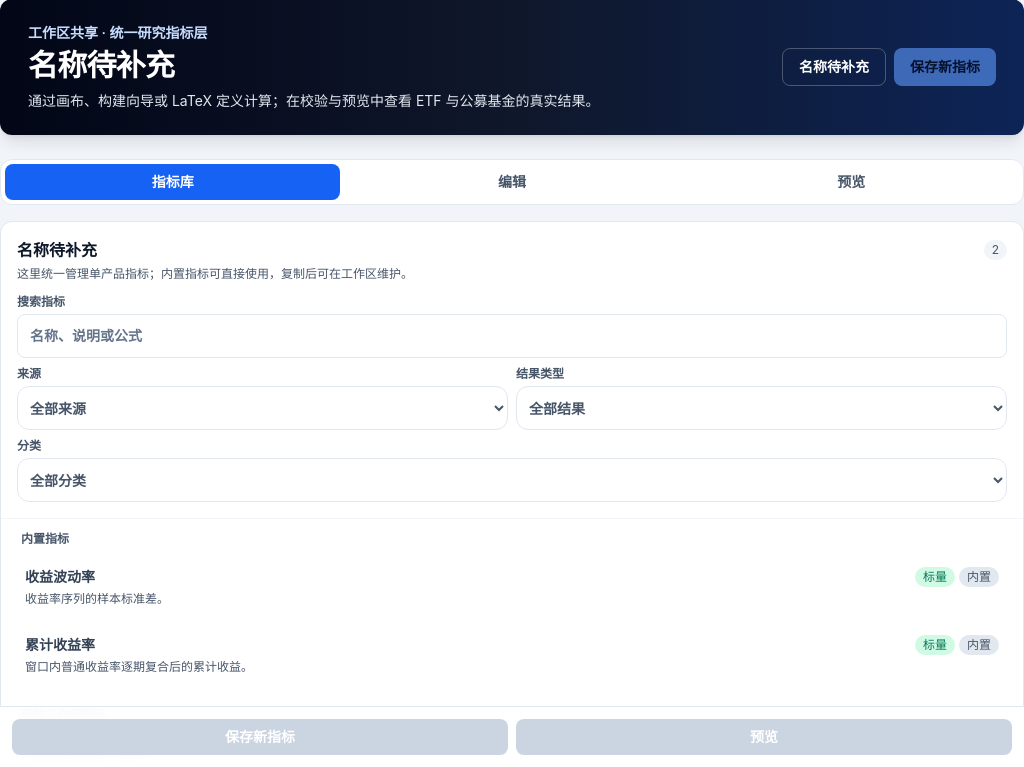
Scenario: IndicatorStudio › 非法数学排版不会以红色 LaTeX 源码泄露到预览区
The image size is (1024, 767).
Click the button "收益波动率 标量 内置 收益率序列的样本标准差。" at x=60, y=576, box [13, 555, 1011, 619]
(page scrolled)
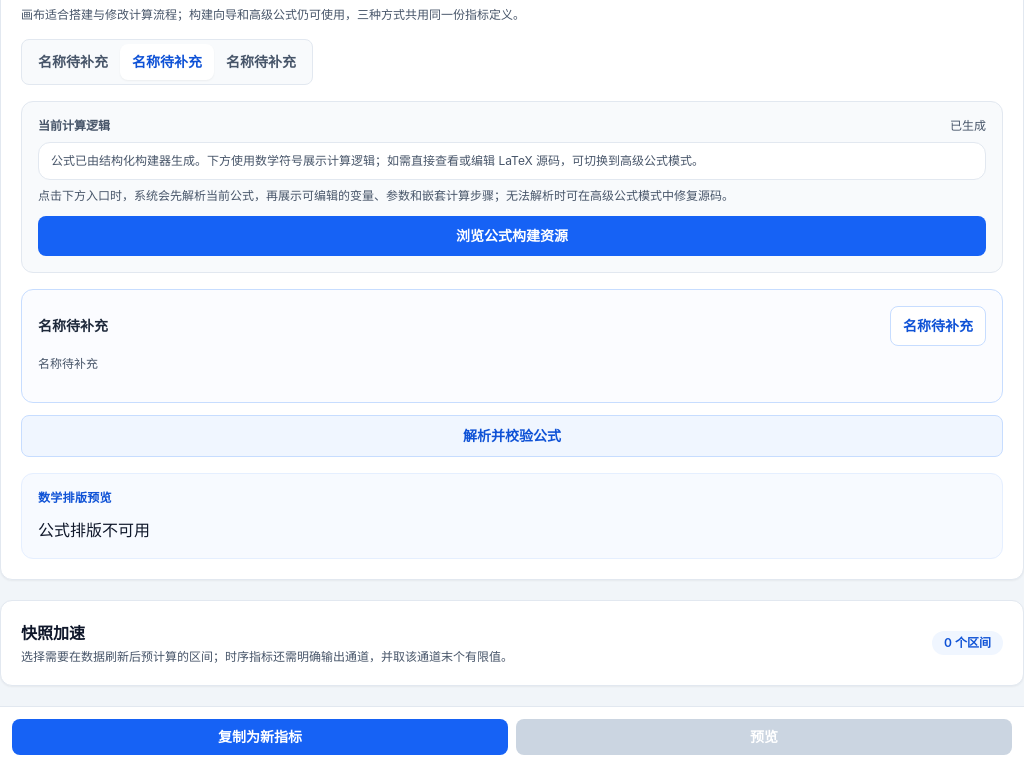
Expected: the element with test id "formula-preview" reads "公式排版不可用", [38, 520, 150, 540]
